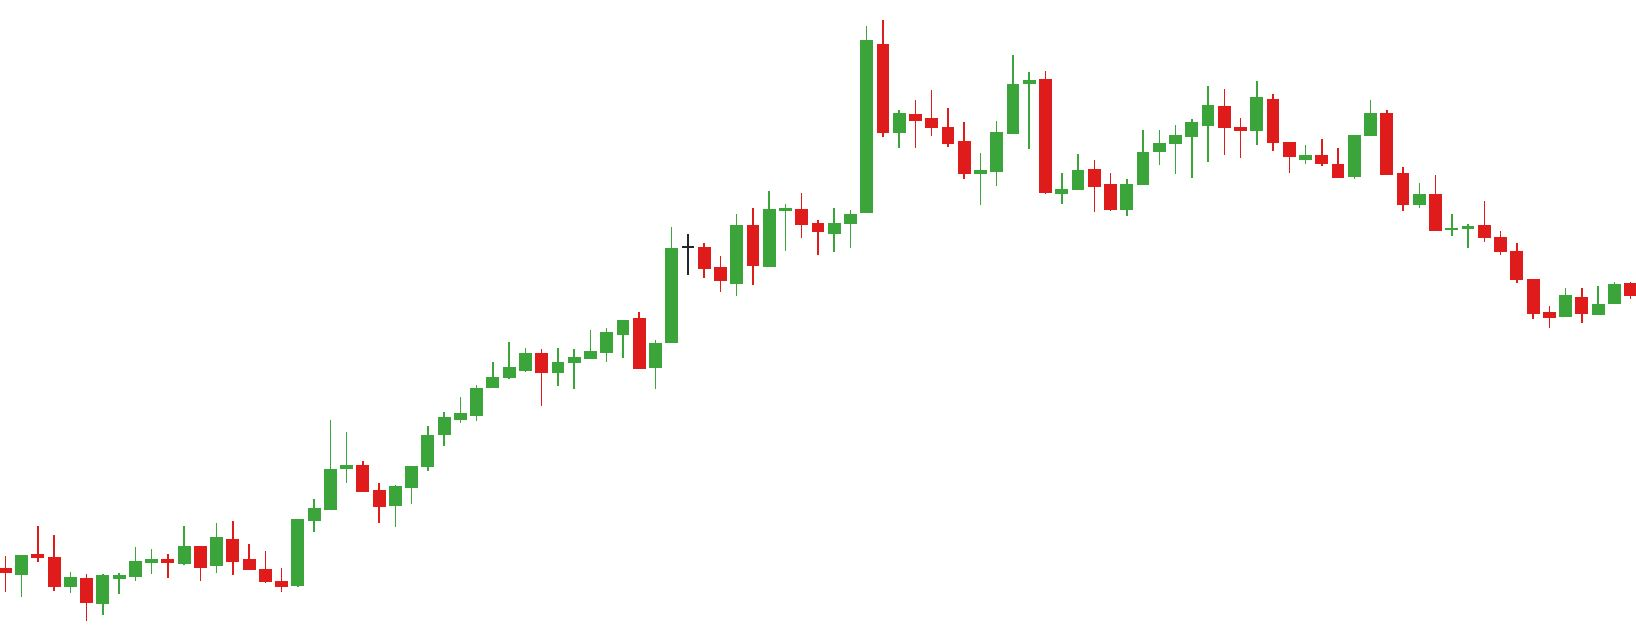sell: (925, 54, 1054, 141)
